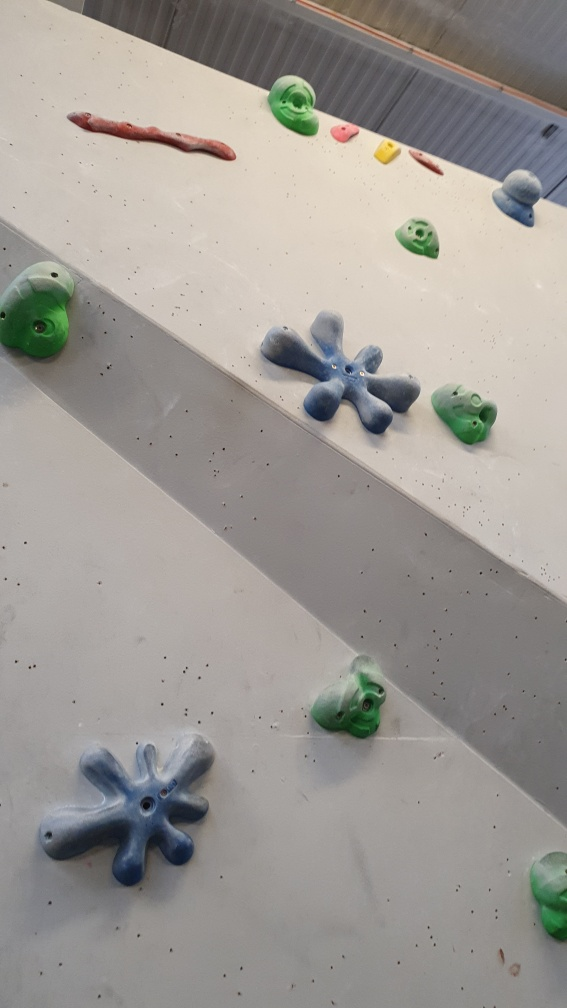Crimp: (408, 143, 445, 176), (326, 113, 355, 150)
Jug: (1, 257, 84, 362), (310, 659, 388, 739), (263, 69, 326, 142), (435, 382, 498, 451), (386, 213, 443, 264)
Octopus Pinch: (38, 728, 217, 887), (265, 307, 424, 440)
Sloper: (487, 164, 544, 229)
